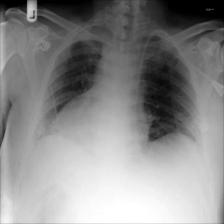normal: (29, 20, 203, 157)
